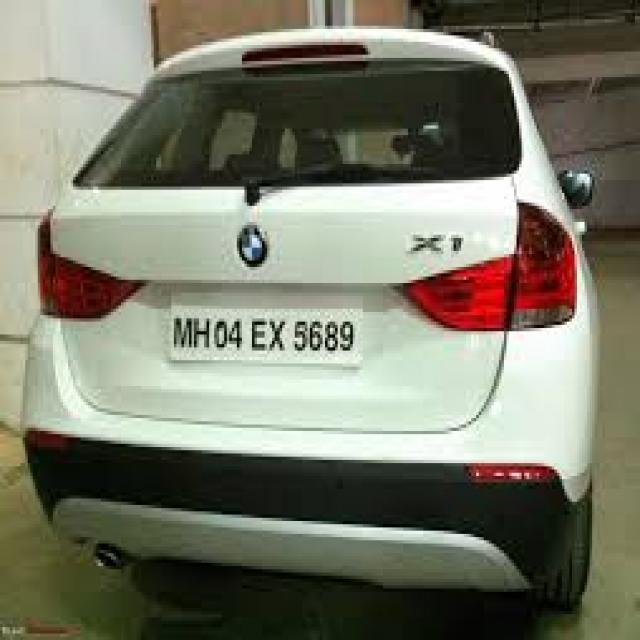Number-Plate: (170, 294, 358, 361)
